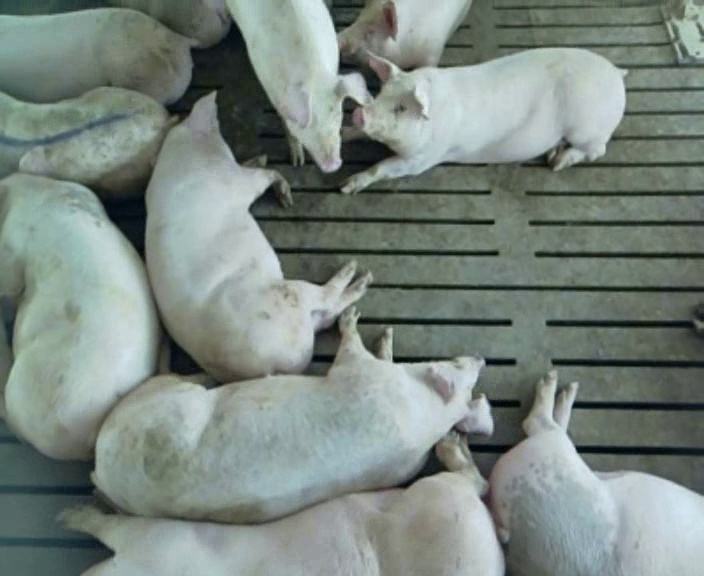pig: (93, 307, 491, 522), (145, 92, 370, 379), (60, 431, 503, 574), (0, 144, 157, 459), (490, 372, 703, 574), (342, 48, 625, 191), (226, 2, 369, 170), (0, 87, 176, 192), (0, 8, 190, 103), (338, 1, 470, 69), (116, 1, 231, 47)
